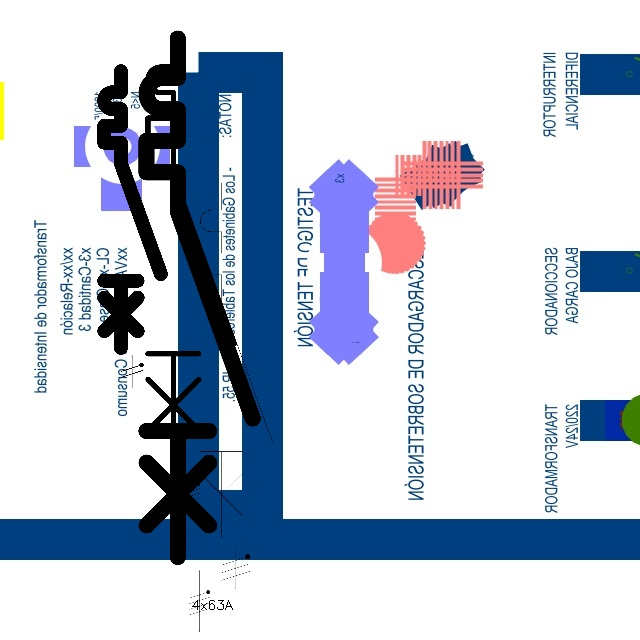interruptor_termomagnetico: (133, 25, 266, 570), (137, 24, 245, 467), (191, 174, 282, 546), (97, 64, 168, 355)
